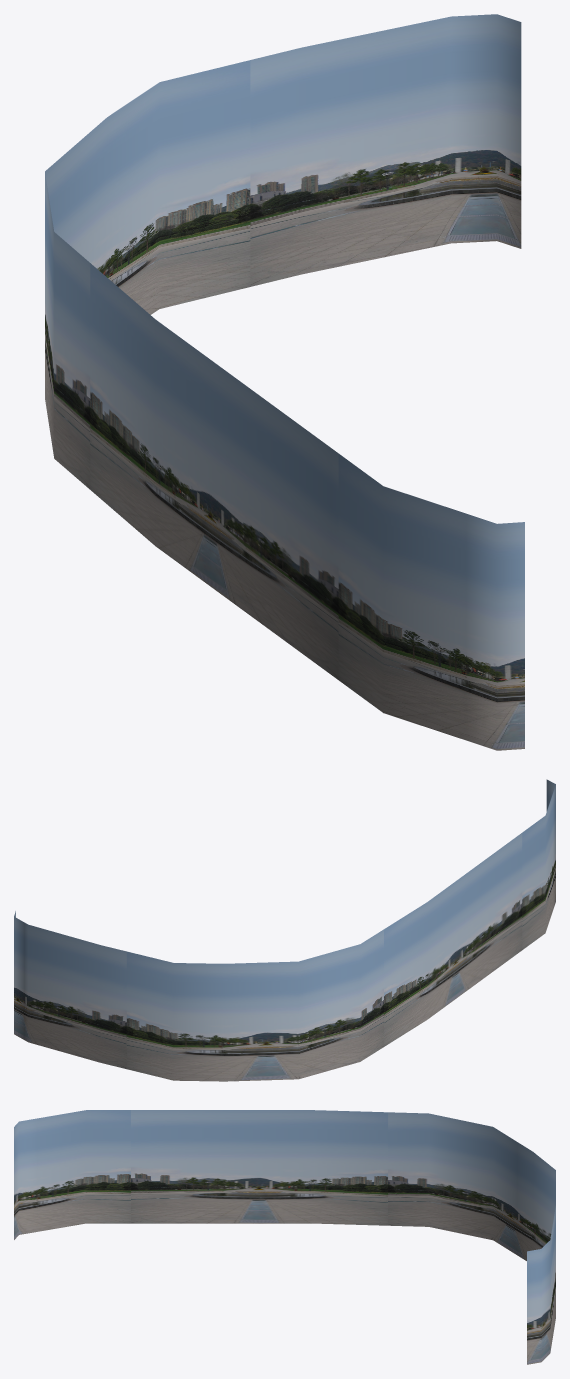
File: 3dgj_jyjy_ww.FBX
3 views of the same model, one above another, from view 1: azimuth 30°, elevation 25°; view 2: azimuth 150°, elevation 25°; view 3: azimuth 270°, elevation 25° (orthographic). The views are drawn at different scales.
Visible parts, largest first — view 1: 3Dguoji_HGDT_wj01_ljwx; view 2: 3Dguoji_HGDT_wj01_ljwx; view 3: 3Dguoji_HGDT_wj01_ljwx.
Part boxes in pixels (x1,y1,x2,y2): 3Dguoji_HGDT_wj01_ljwx: (45, 14, 524, 750); 3Dguoji_HGDT_wj01_ljwx: (14, 779, 555, 1081); 3Dguoji_HGDT_wj01_ljwx: (14, 1110, 555, 1364).
Bounding box in the file's own units: 31.22 × 11.69 × 50.63.
